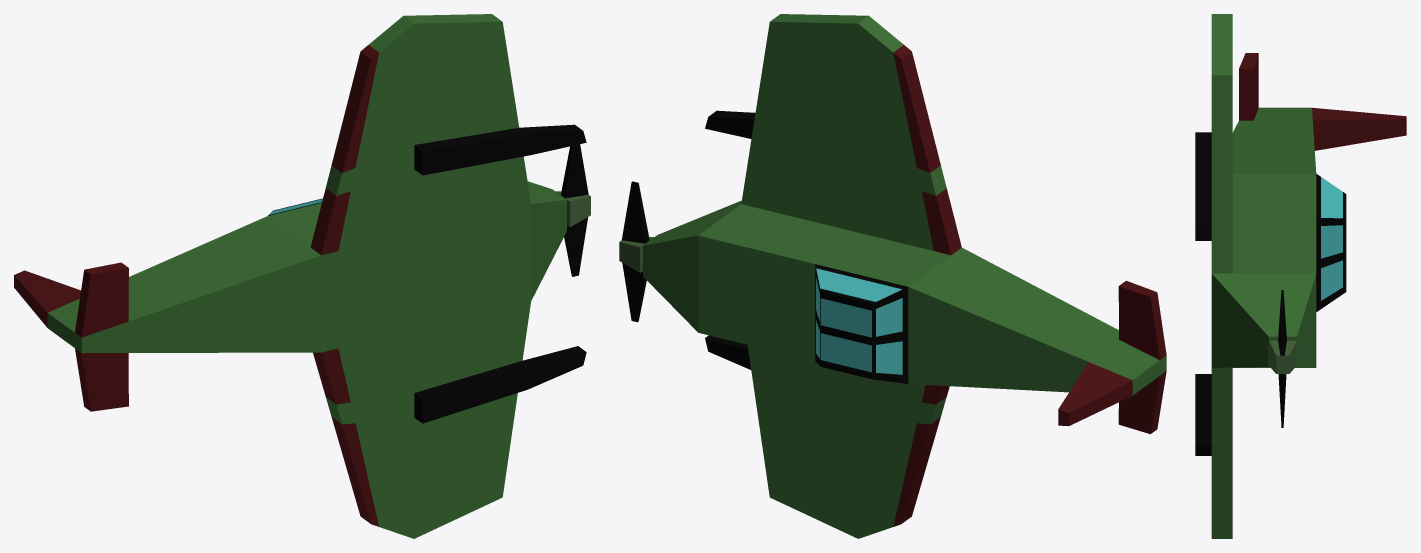
The model's file is PlaneWW2.fbx.
The picture shows the model from 3 angles, left to right: view 1: azimuth 30°, elevation 25°; view 2: azimuth 150°, elevation 25°; view 3: azimuth 270°, elevation 25°; orthographic projection. The views are drawn at different scales.
Parts seen in each view (by area): view 1: Cube, Cube.001; view 2: Cube, Cube.001; view 3: Cube, Cube.001.
Part boxes in pixels (<box>): Cube: <box>14,14,586,538</box>; Cube.001: <box>556,144,590,276</box>; Cube: <box>643,14,1166,538</box>; Cube.001: <box>619,181,653,322</box>; Cube: <box>1195,14,1406,538</box>; Cube.001: <box>1269,290,1296,427</box>.
Bounding box in the file's own units: 1130 × 1060 × 404.
